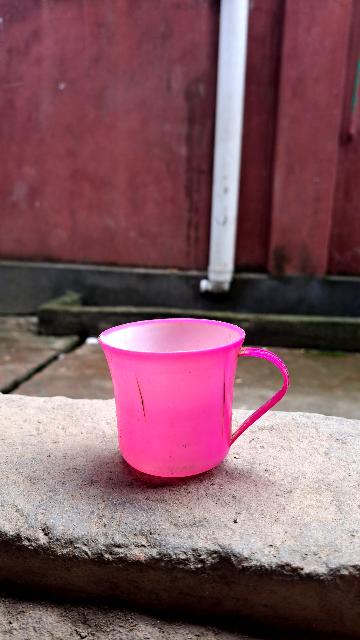hardplastic: (91, 310, 262, 487)
